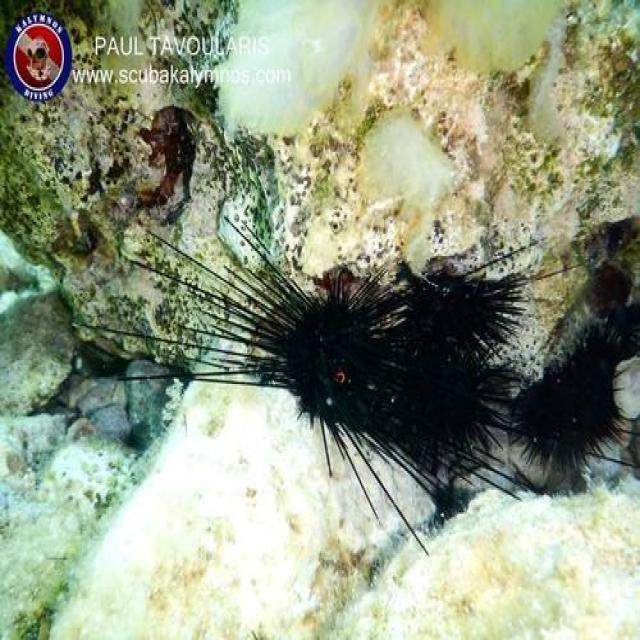Urchin: (80, 205, 528, 544), (509, 316, 639, 484)
